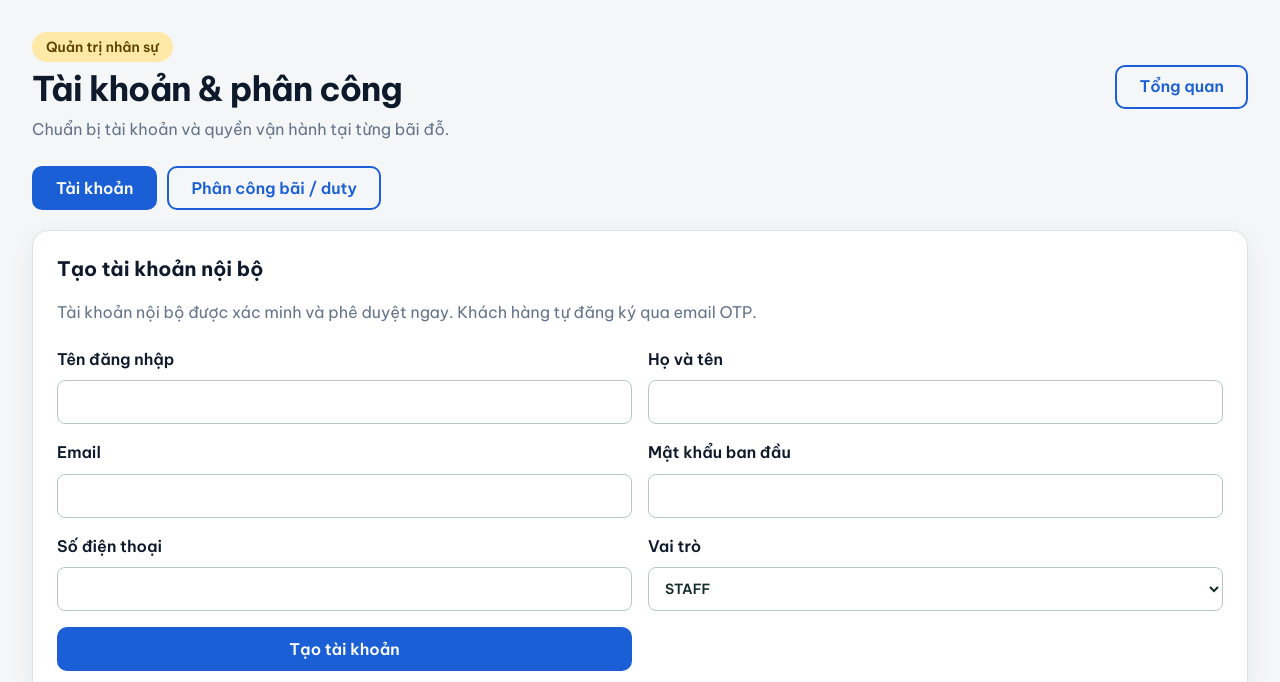
creates an internal account without retaining the password
Type "staffnew" into the field labelled "Tên đăng nhập". click: [344, 402]
box: [57, 380, 632, 424]
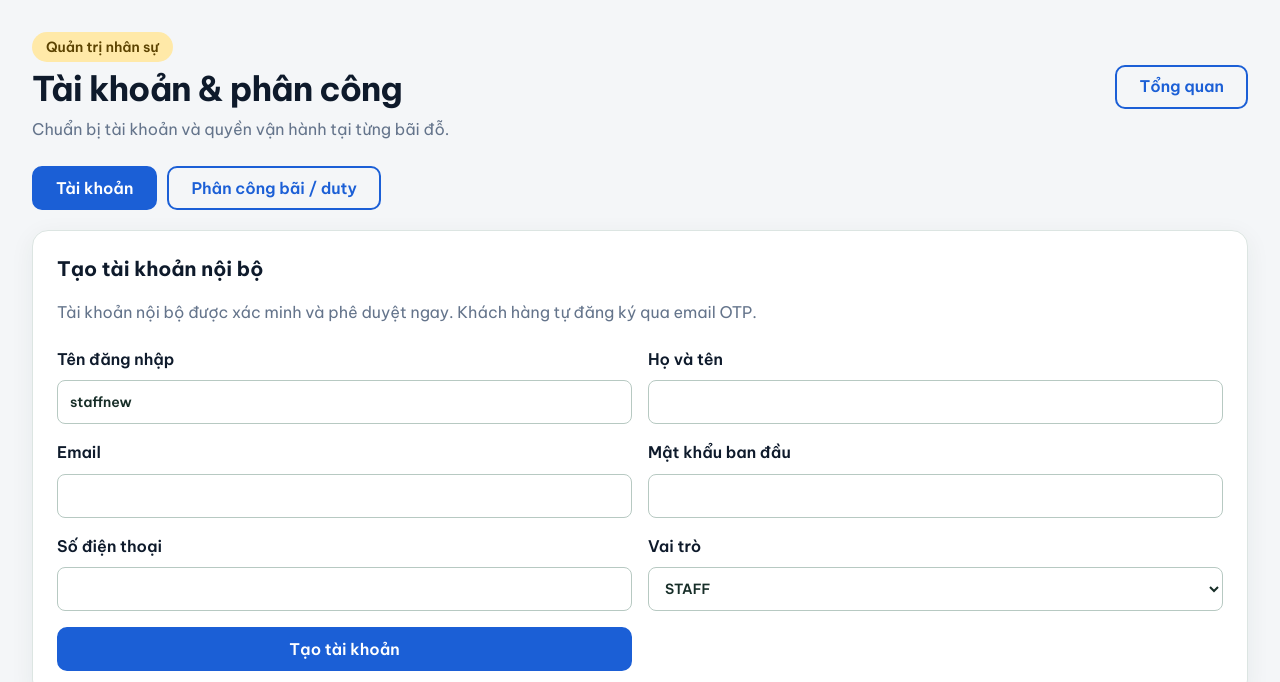
Type "Staff Mới" into the field labelled "Họ và tên". click: [936, 402]
box: [648, 380, 1223, 424]
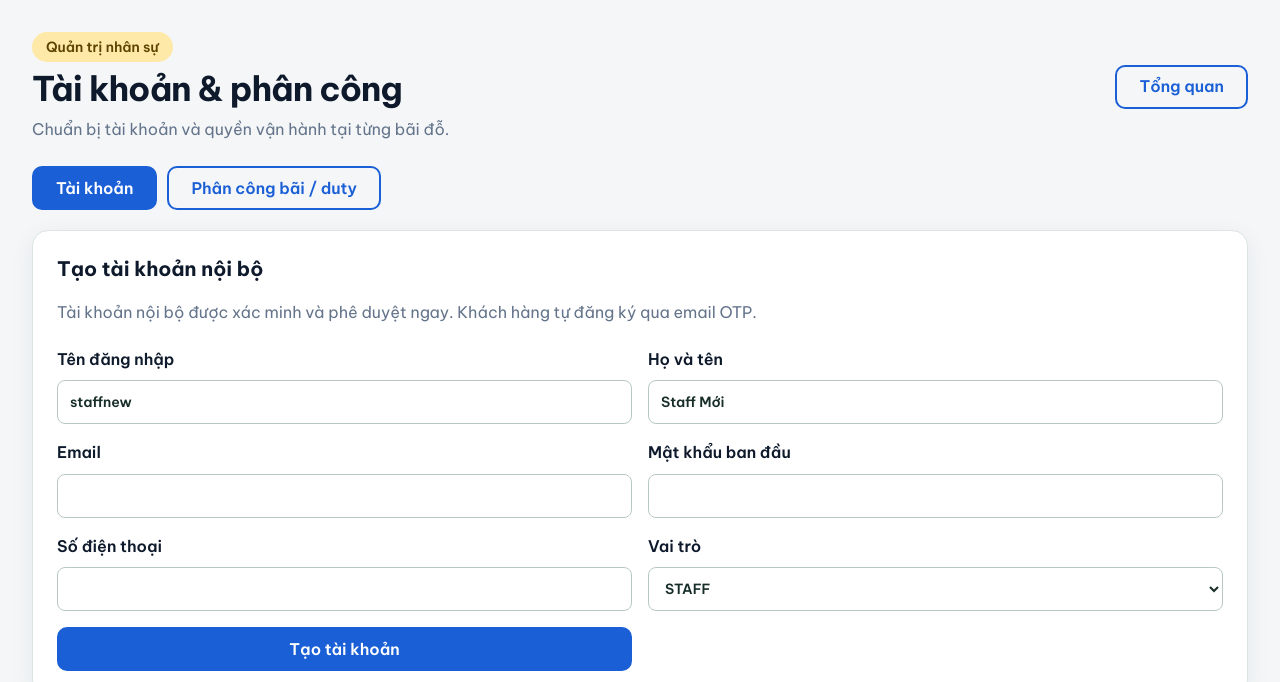
Type "new@example.com" into the field labelled "Email". click: [344, 496]
box: [57, 474, 632, 518]
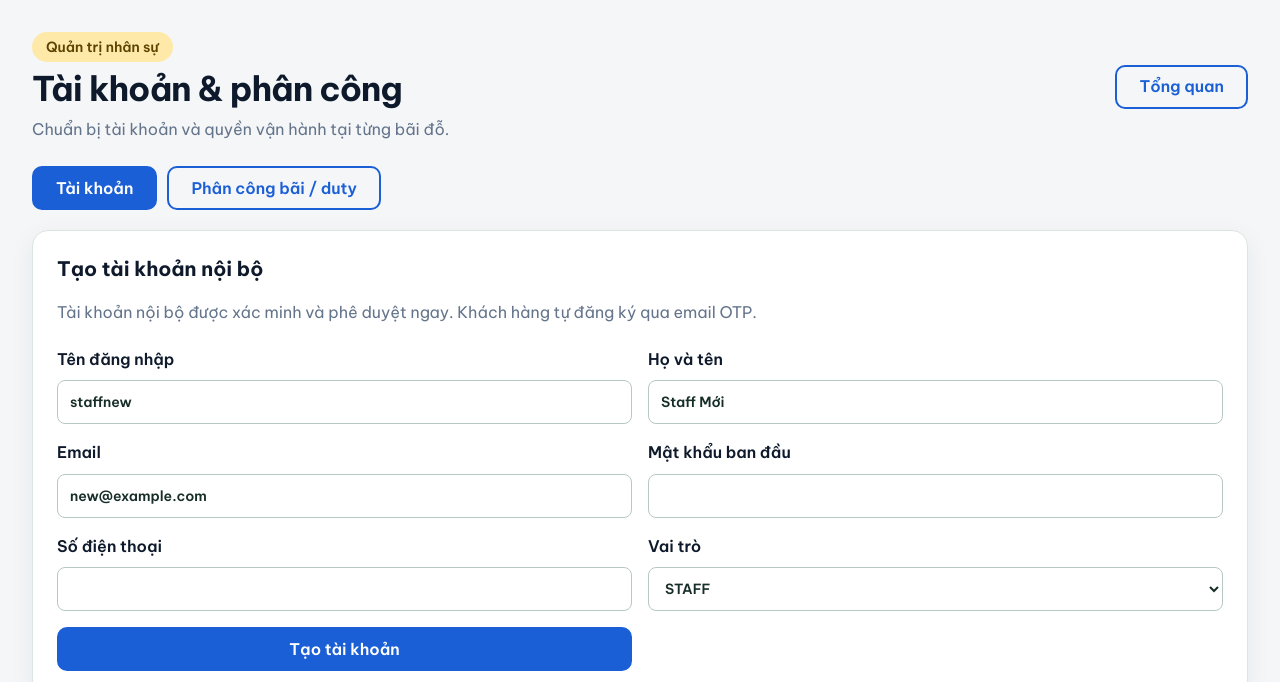
Type "Password123!" into the password field labelled "Mật khẩu ban đầu". click: [936, 496]
box: [648, 474, 1223, 518]
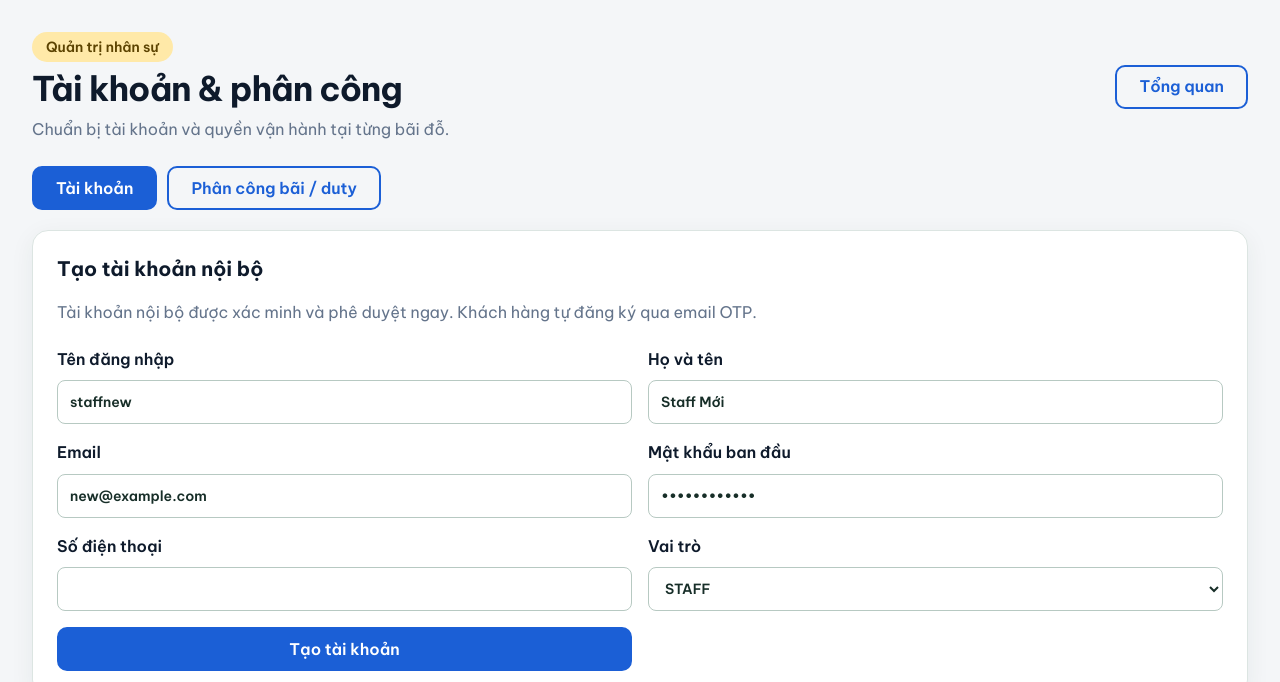
Click the button "Tạo tài khoản". click: [344, 650]
box: [57, 628, 632, 672]
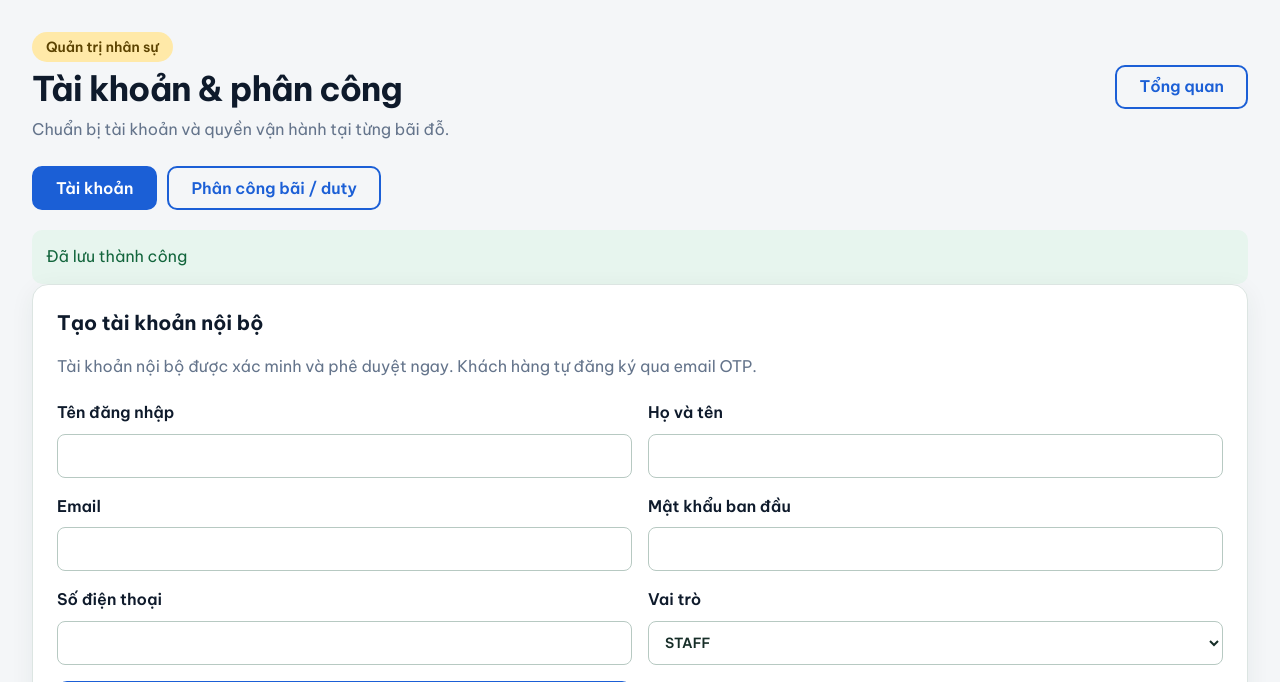
Now the text "Đã lưu thành công" is shown, box [32, 230, 1248, 284]
Now the password field labelled "Mật khẩu ban đầu" is empty, box [648, 528, 1223, 572]
